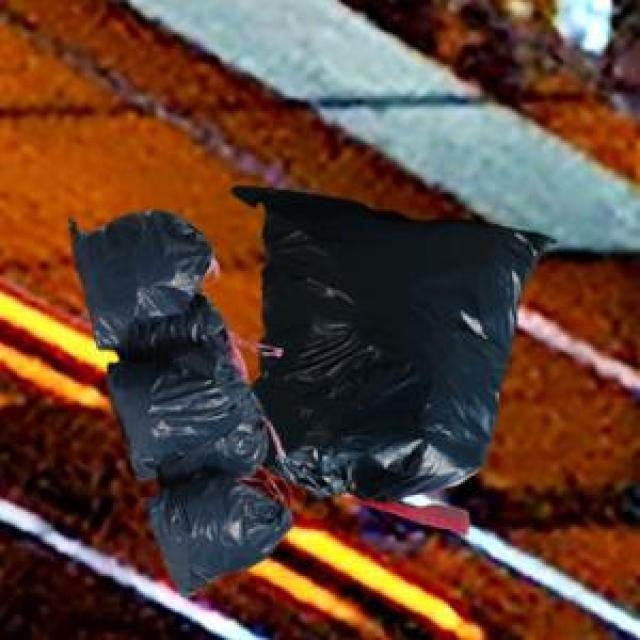miscellaneous trash: (228, 184, 553, 531), (65, 207, 288, 593)
